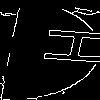H: (24, 25, 100, 67)
